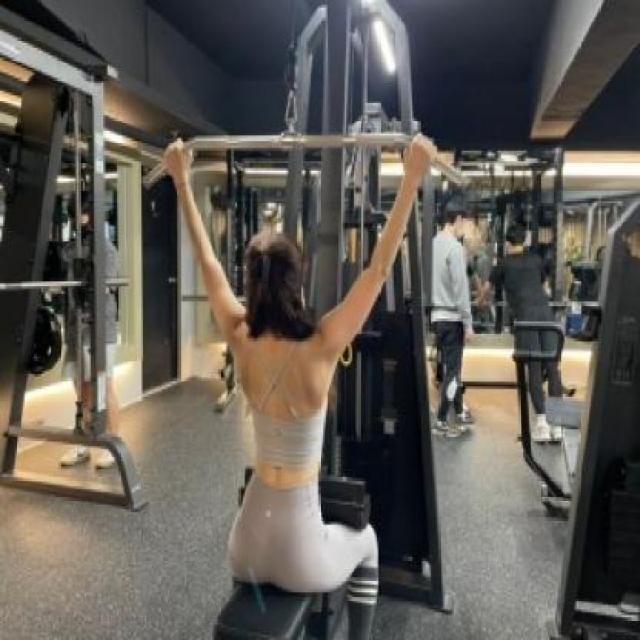Lat Pull Down: (116, 0, 490, 640)
